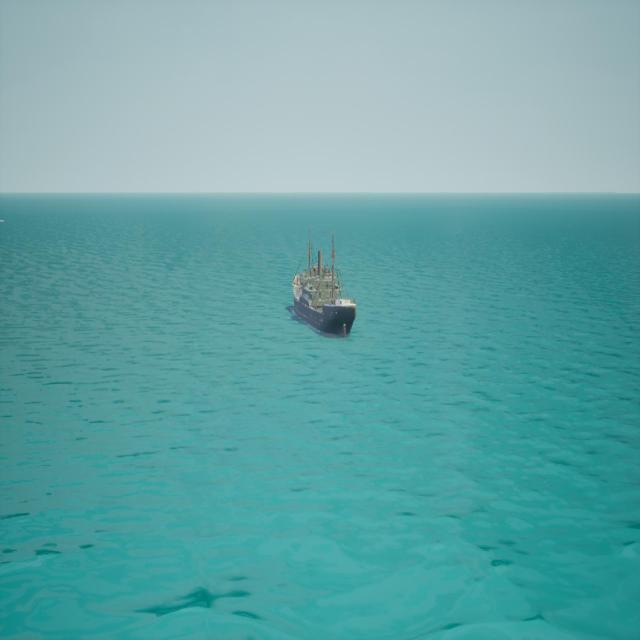fishing ship: (289, 232, 358, 337)
